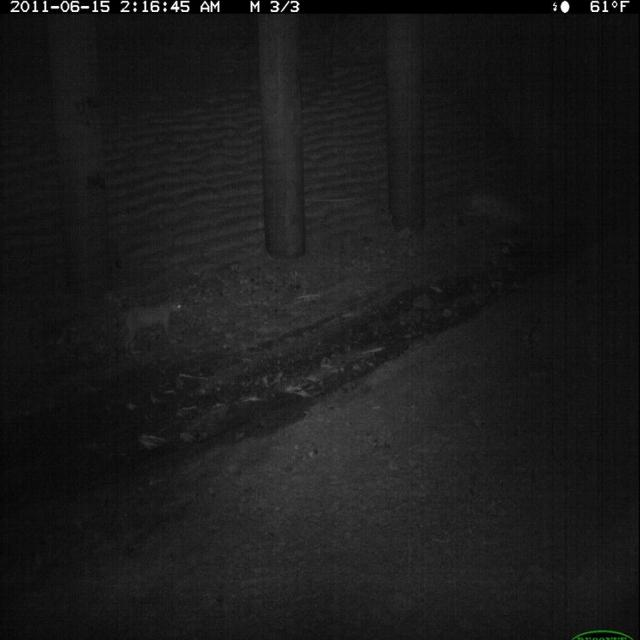bobcat: (113, 288, 189, 366)
